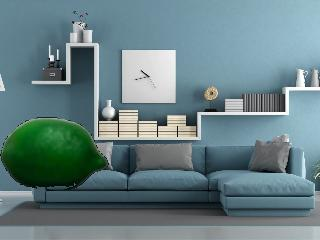lime: (1, 116, 112, 193)
